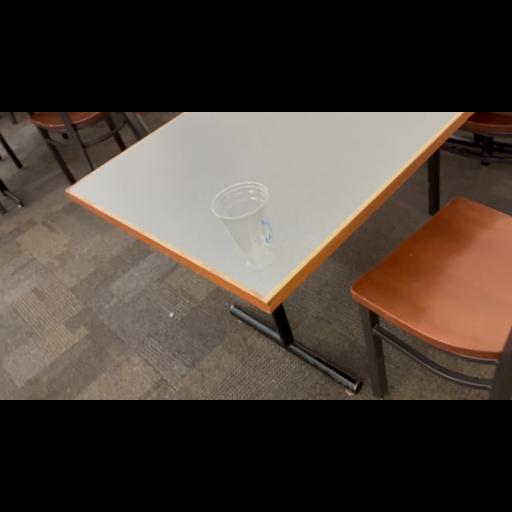lp_plastic_cup: (204, 176, 298, 286)
